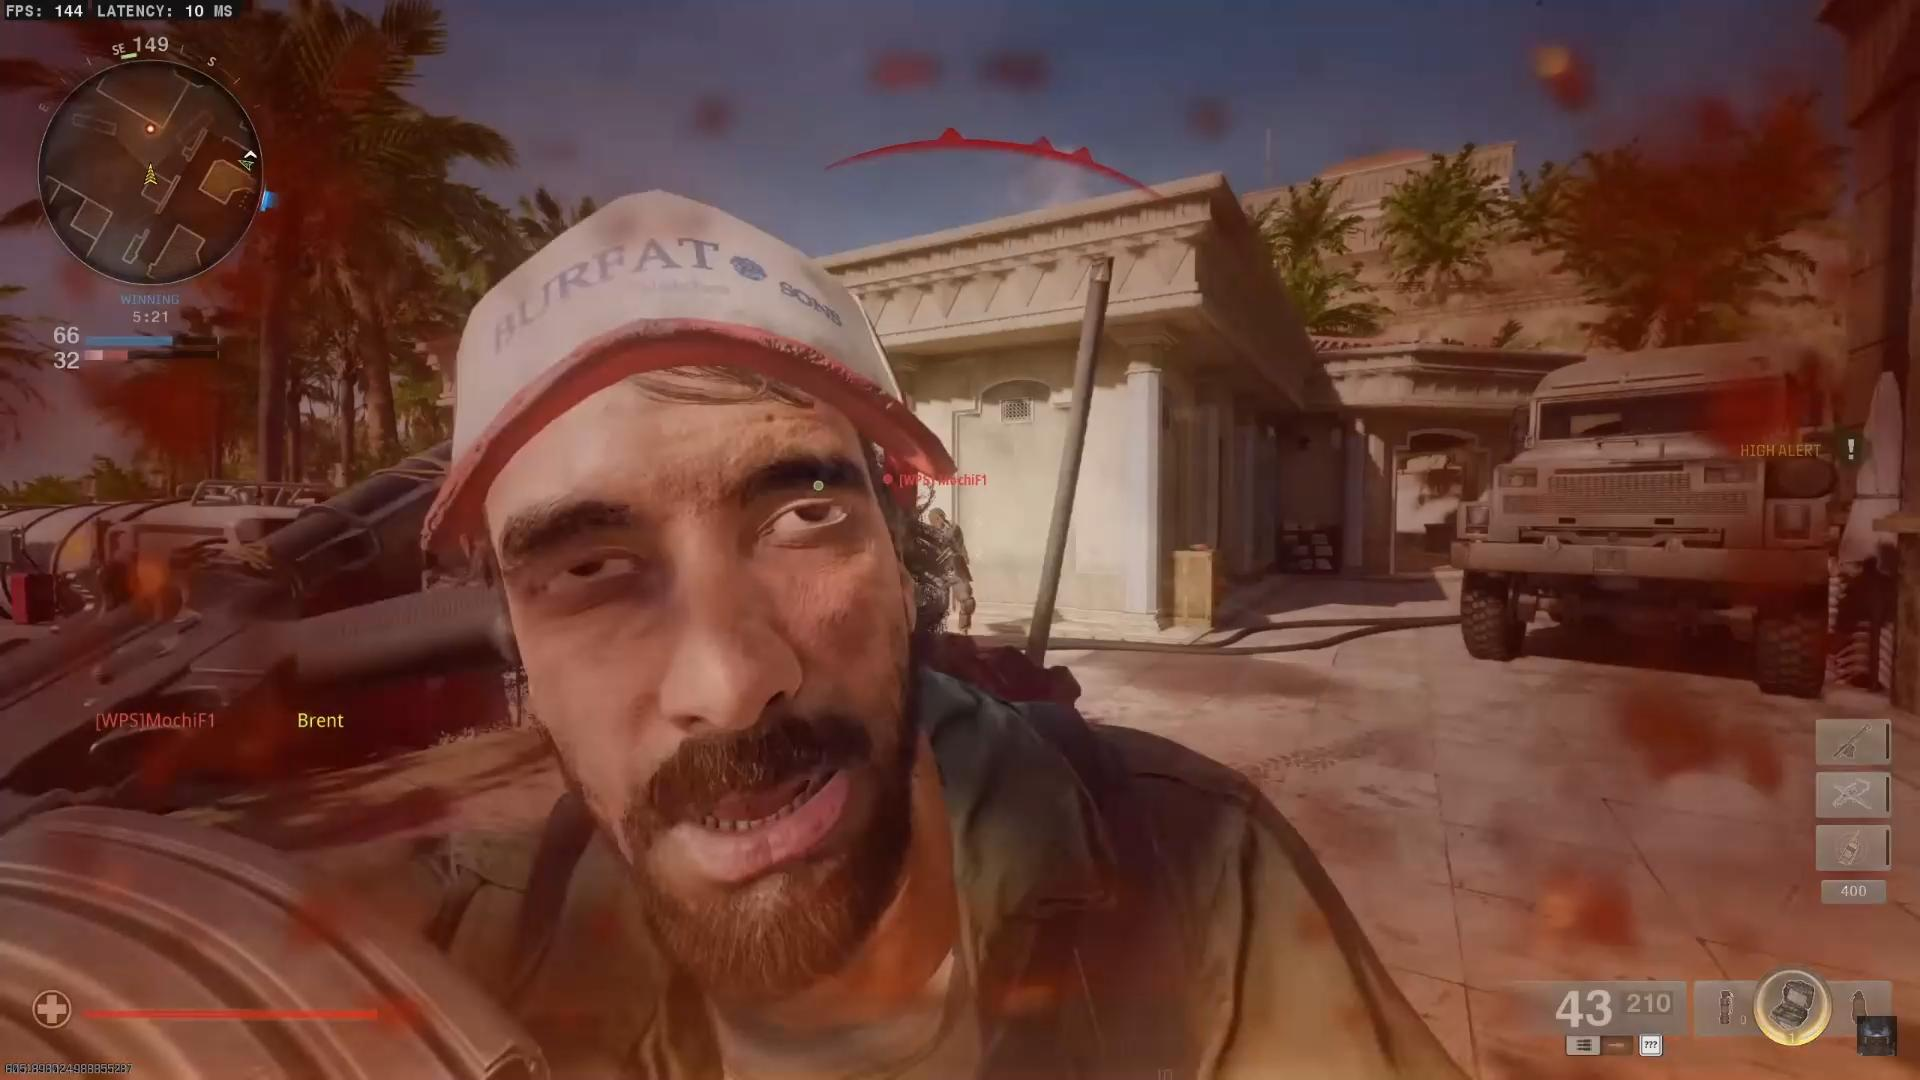Enemy: (918, 492, 1001, 629)
